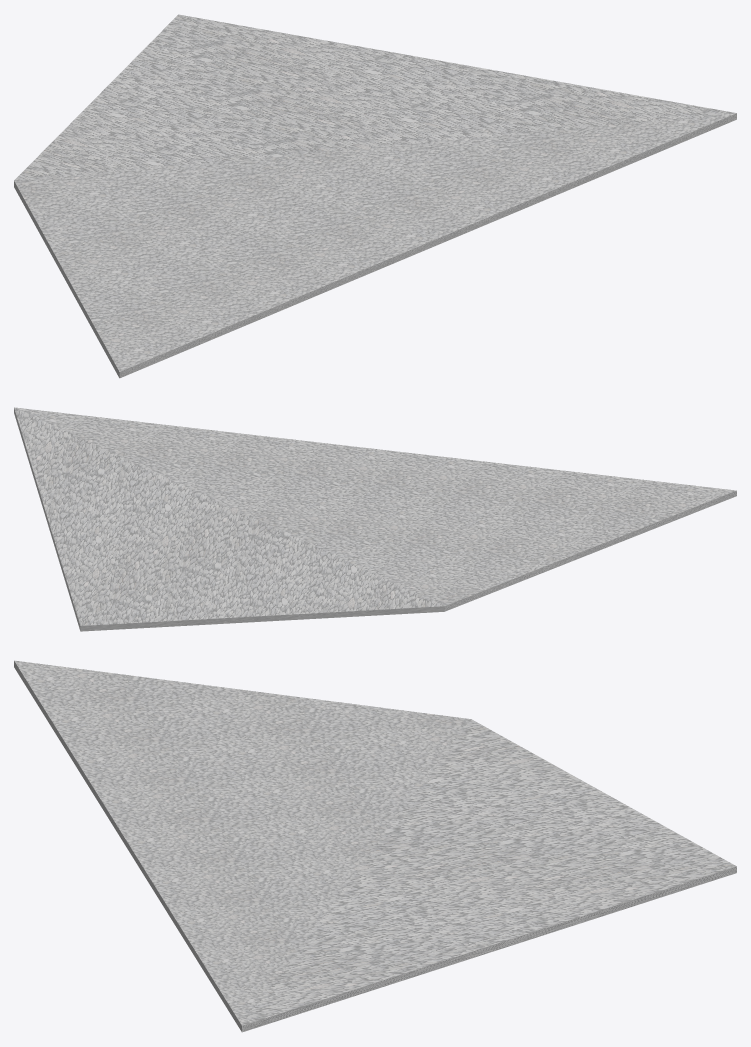
Rendered from floor 2.fbx.
3 renders of one model, top to bottom at view 1: azimuth 30°, elevation 25°; view 2: azimuth 150°, elevation 25°; view 3: azimuth 270°, elevation 25°, orthographic. The views are drawn at different scales.
Parts seen in each view (by area): view 1: Cube.487; view 2: Cube.487; view 3: Cube.487.
Boxes of the visible parts, x1,y1,x2,y2 form: Cube.487: (14, 14, 736, 378); Cube.487: (14, 407, 736, 631); Cube.487: (14, 660, 736, 1032).
Size of the model in its own units: 1428 by 12.17 by 1194.
Materials: 1 (1 with a texture image).
